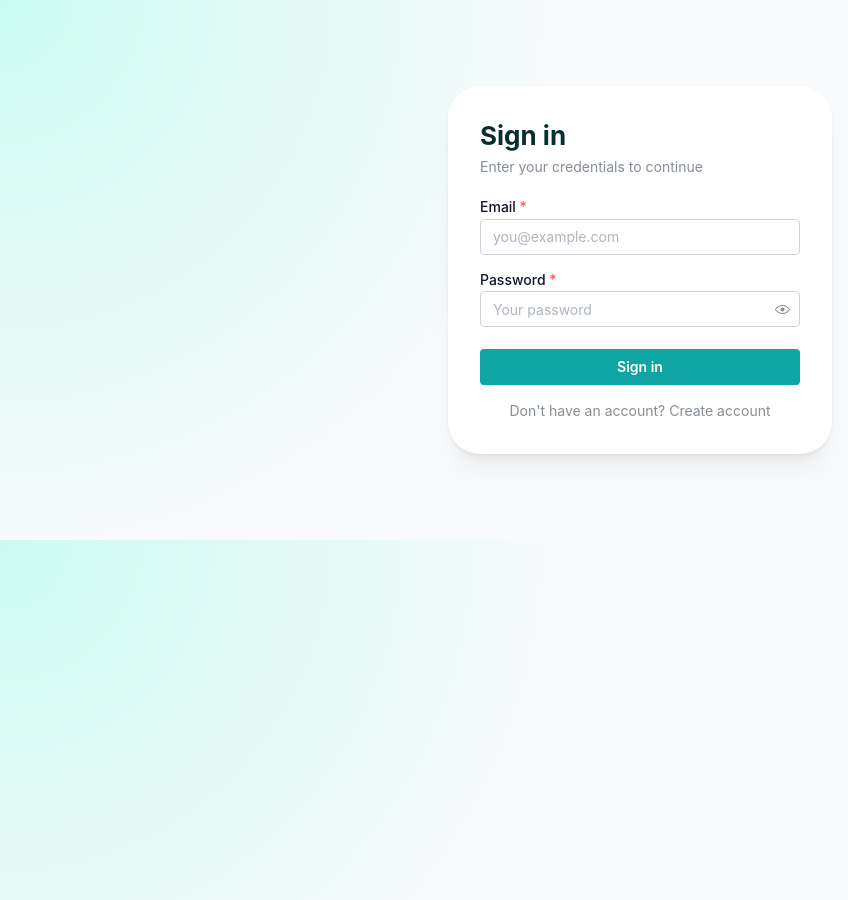
Scenario: LoginPage › displays the API error message when login fails
Type "bad@example.com" into the field labelled "Email *".
click(640, 236); type("bad@example.com")  # box [480, 218, 800, 254]
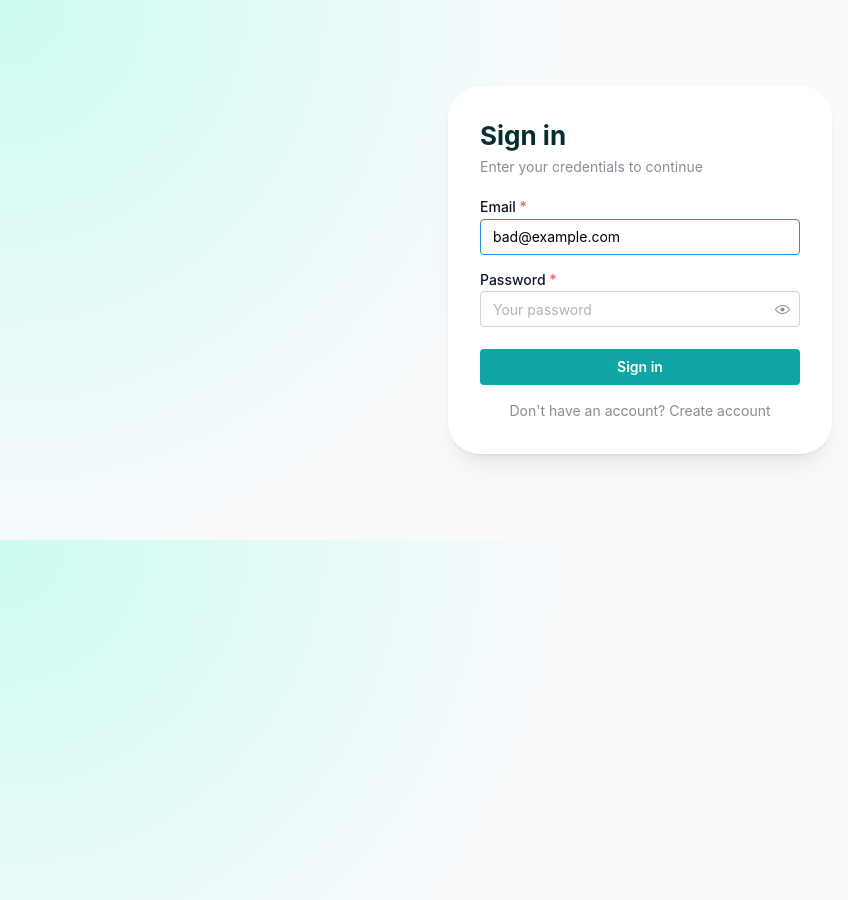
Type "wrong" into the password field labelled "Password *".
click(640, 309); type("wrong")  # box [481, 292, 799, 326]
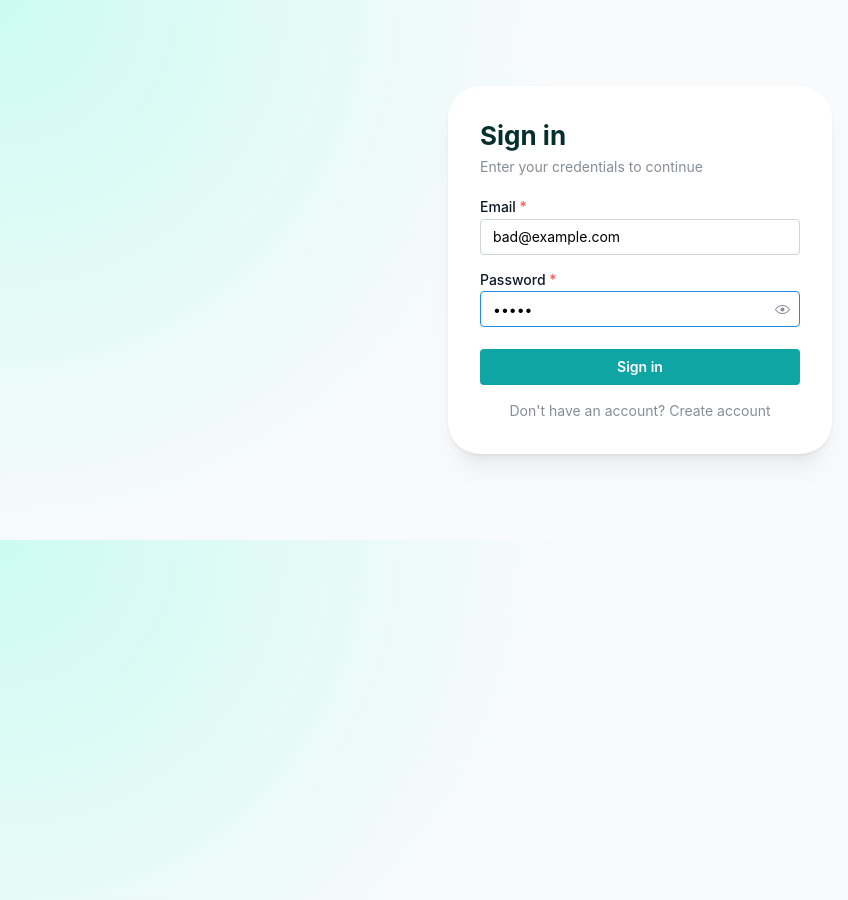
Click the button "Sign in".
click(640, 367)  # box [480, 349, 800, 385]
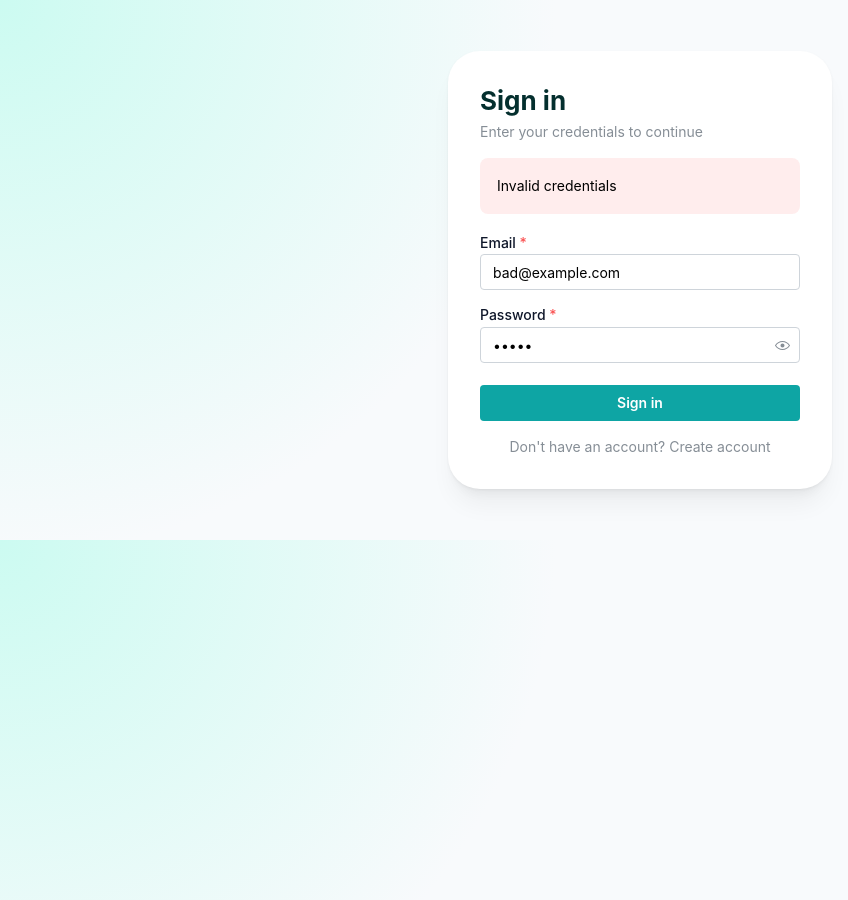
Now the text "Invalid credentials" is shown, box [497, 177, 617, 194]
